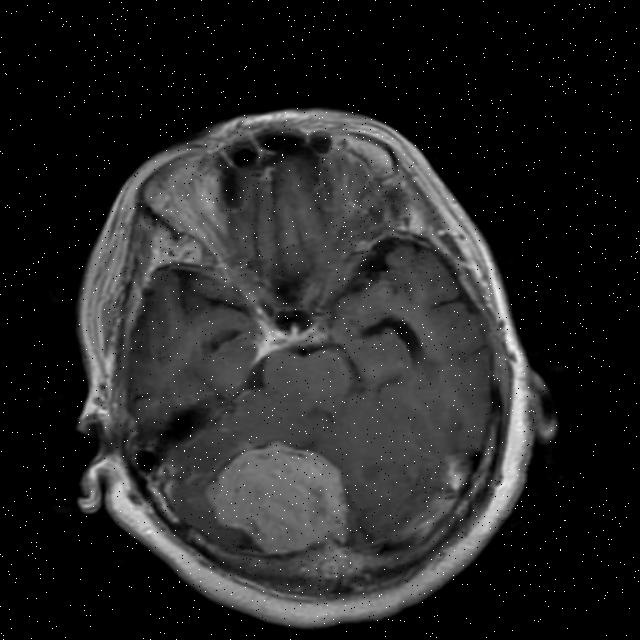Meningioma: (193, 425, 359, 572)
